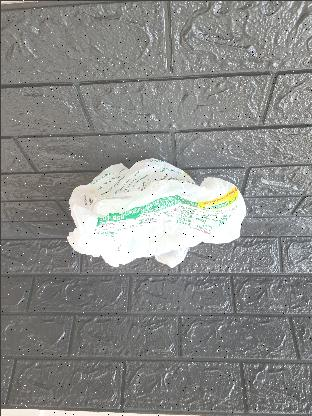Others: (62, 160, 249, 267)
